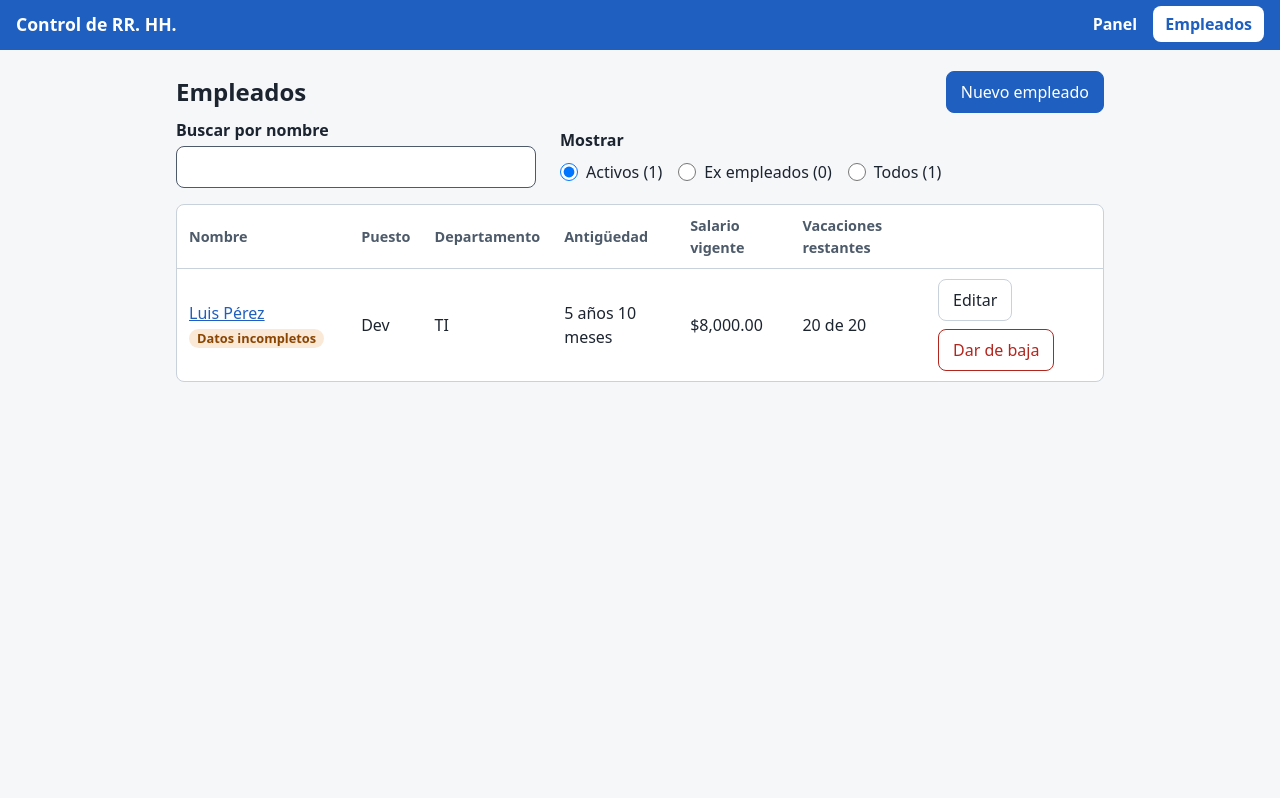
Scenario: empleados registrados antes de v1.2 › muestran "Datos incompletos" y al editarlos se exigen NSS y fecha de nacimiento
Expected: the text "Datos incompletos" is shown, [189, 329, 324, 348]
Click the link "Luis Pérez" at {"x": 227, "y": 313}, box [189, 302, 265, 324]
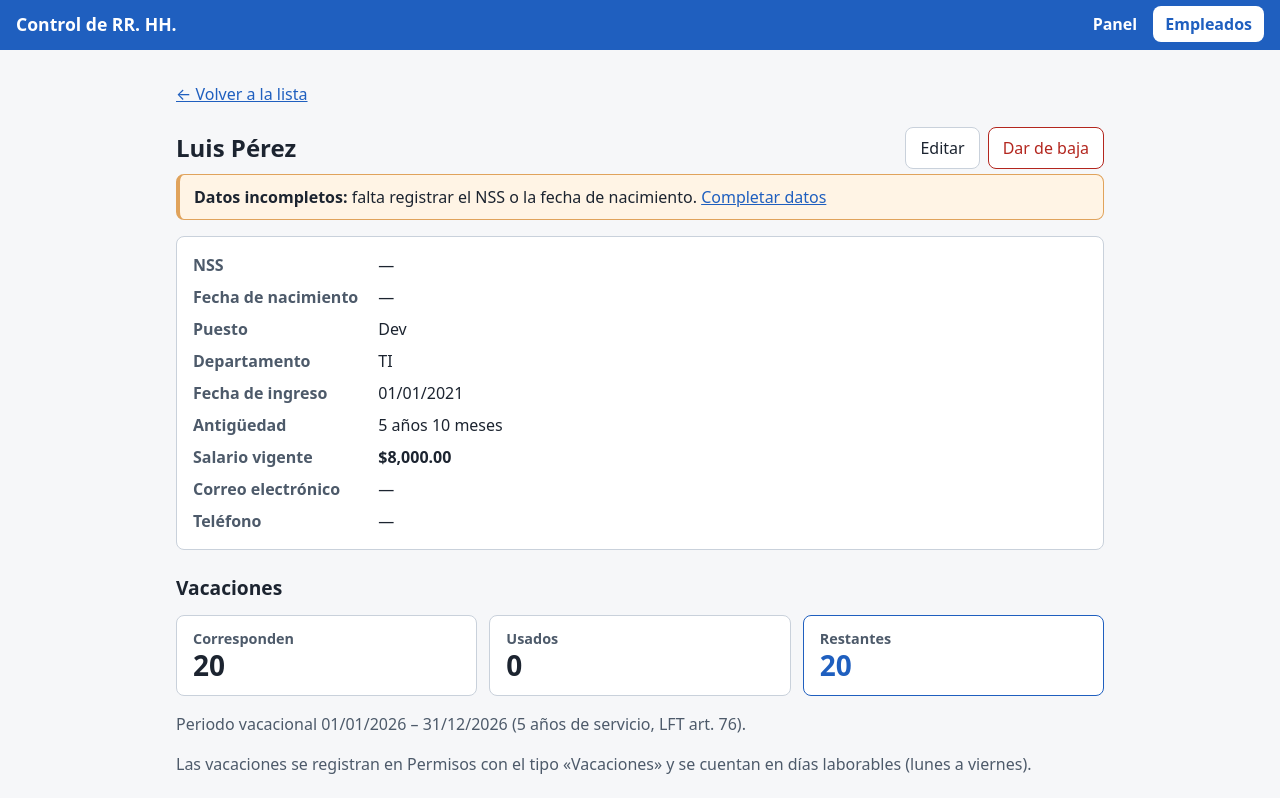
Now the text "falta registrar el NSS o la fecha de nacimiento" is shown, box [348, 186, 697, 208]
Click the link "Completar datos" at {"x": 764, "y": 197}, box [701, 186, 826, 208]
(page scrolled)
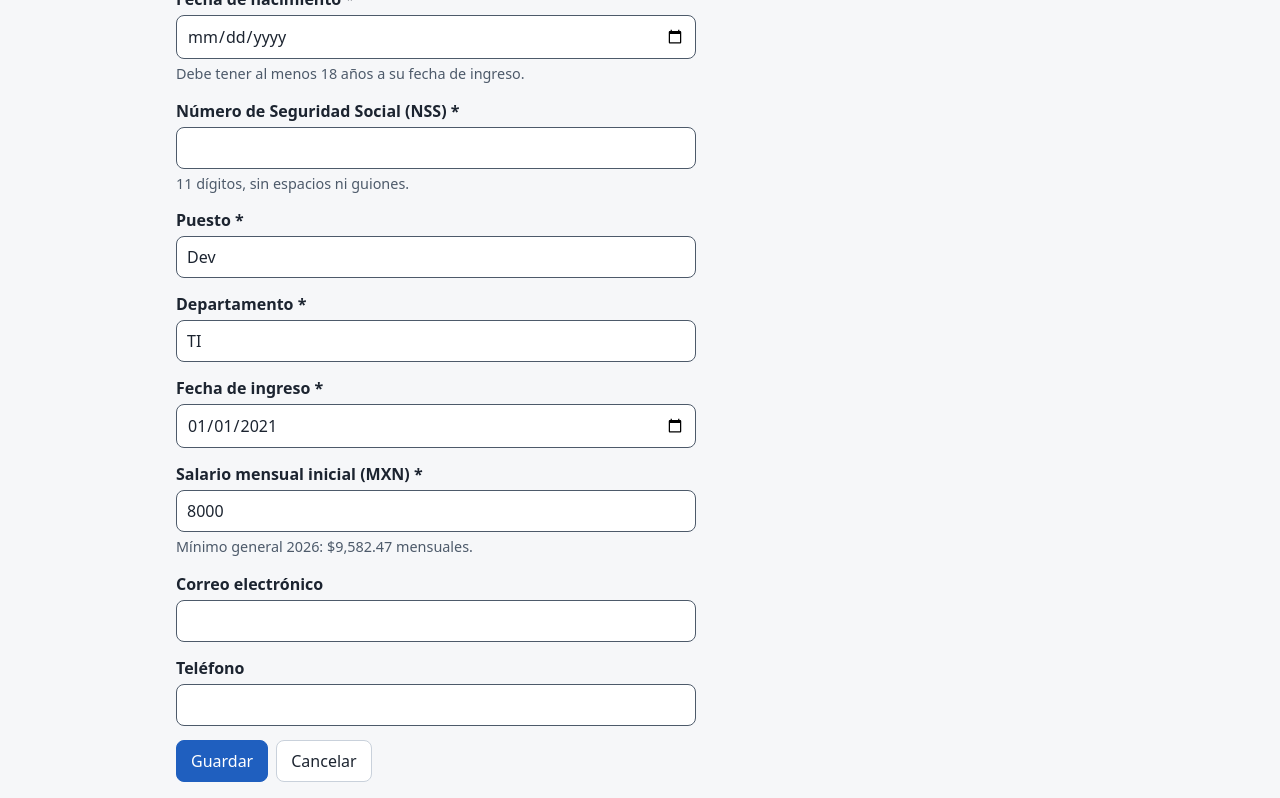
Click the button "Guardar" at {"x": 222, "y": 761}, box [176, 740, 268, 782]
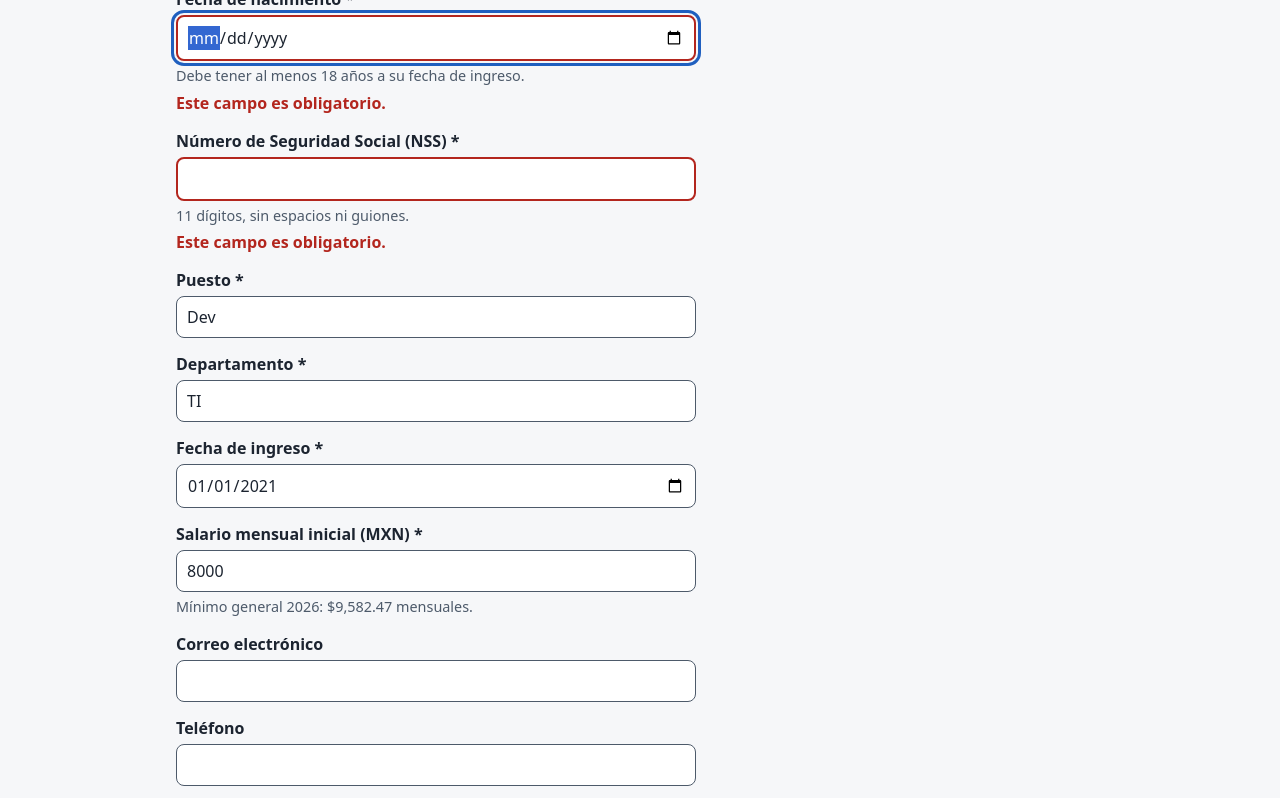
Now the field labelled "Número de Seguridad Social (NSS) *" is marked as invalid, box [176, 157, 696, 201]
Now the date field labelled "Fecha de nacimiento *" is marked as invalid
Type "1990-05-20" into the date field labelled "Fecha de nacimiento *" at {"x": 436, "y": 38}, box [176, 15, 696, 61]
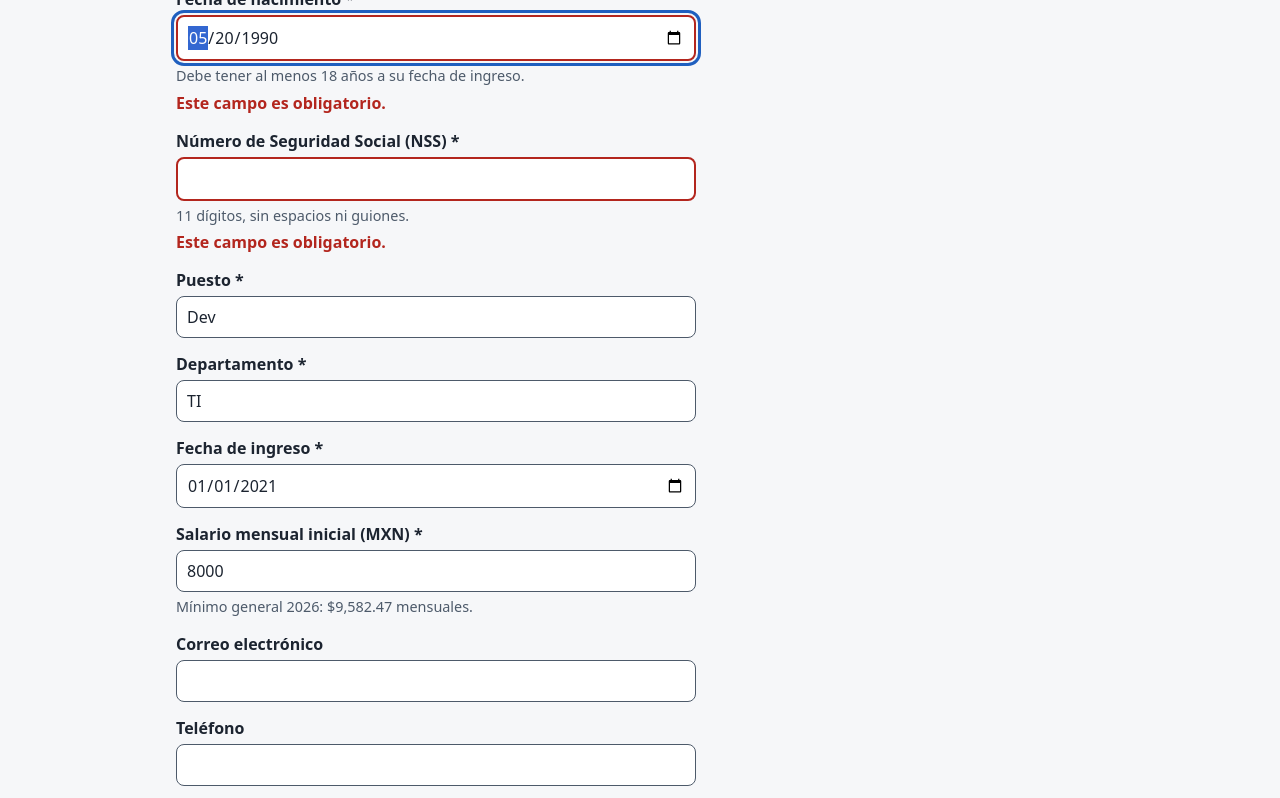
Type "98765432109" into the field labelled "Número de Seguridad Social (NSS) *" at {"x": 436, "y": 179}, box [176, 157, 696, 201]
(page scrolled)
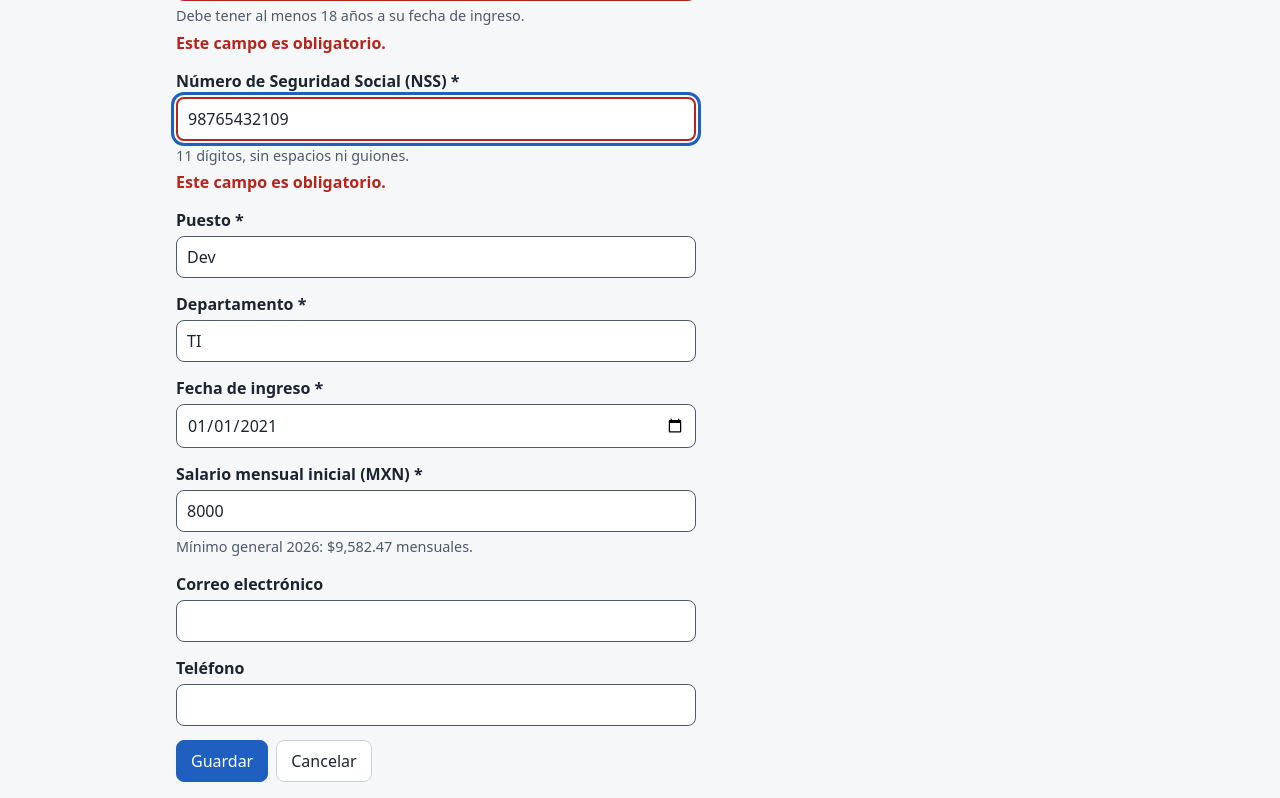
Click the button "Guardar" at {"x": 222, "y": 761}, box [176, 740, 268, 782]
(page scrolled)
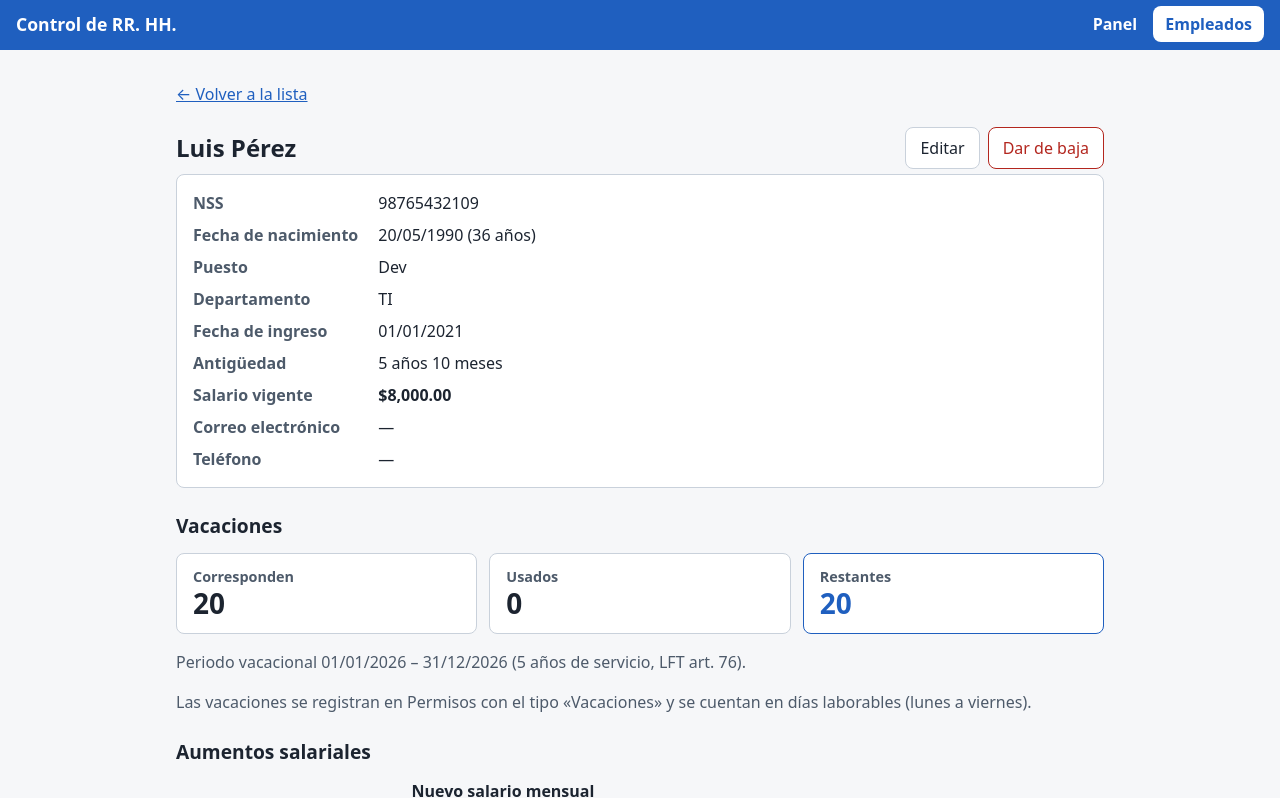
Expected: the text "Datos incompletos" is not shown
Now the heading "Luis Pérez" is shown, box [176, 130, 296, 166]
